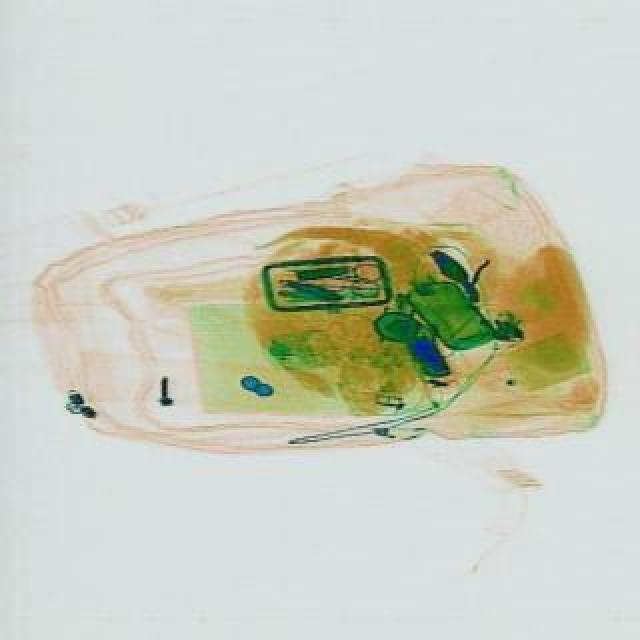pliers: (298, 258, 378, 302)
